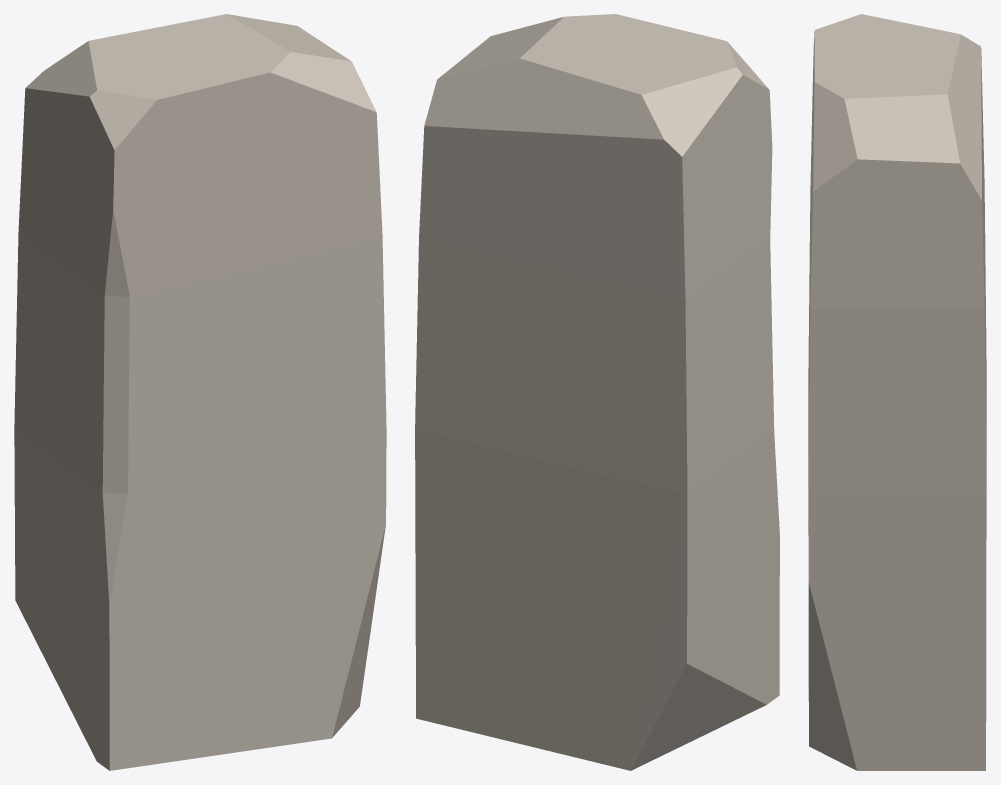
Rendered from Stonehenge_07.fbx.
3 renders of one model, left to right at view 1: azimuth 30°, elevation 25°; view 2: azimuth 150°, elevation 25°; view 3: azimuth 270°, elevation 25°, orthographic. The views are drawn at different scales.
Visible parts, largest first — view 1: Stonehenge_07; view 2: Stonehenge_07; view 3: Stonehenge_07.
Boxes of the visible parts, x1,y1,x2,y2 form: Stonehenge_07: (14,14,386,770); Stonehenge_07: (415,14,779,770); Stonehenge_07: (808,14,986,770).
Size of the model in its own units: 2.03 by 4.75 by 1.2.
